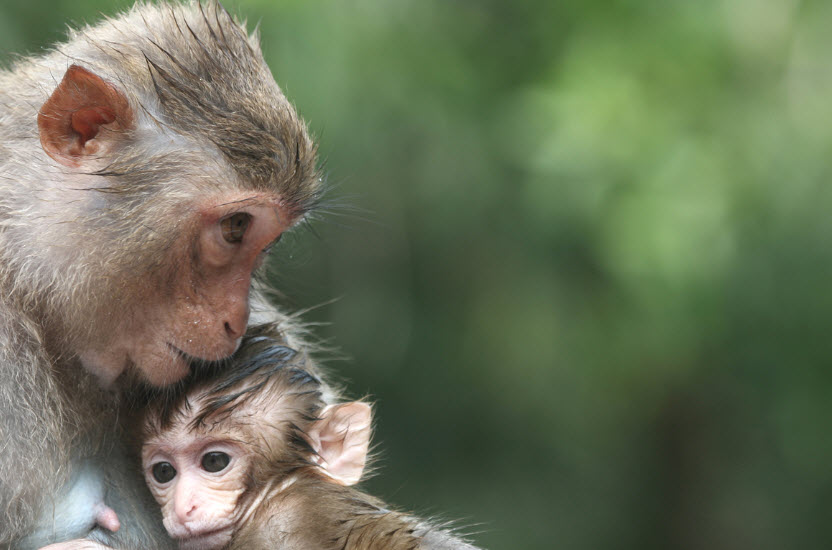monkey: (1, 2, 486, 550), (133, 314, 483, 550)
